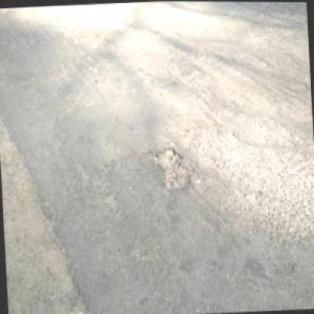Hueco: (143, 144, 194, 192), (61, 18, 113, 53)
